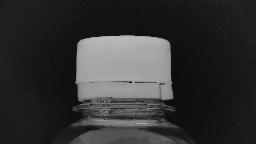Broken Ring: (132, 77, 176, 101)
Loose Cap: (68, 76, 180, 114)
